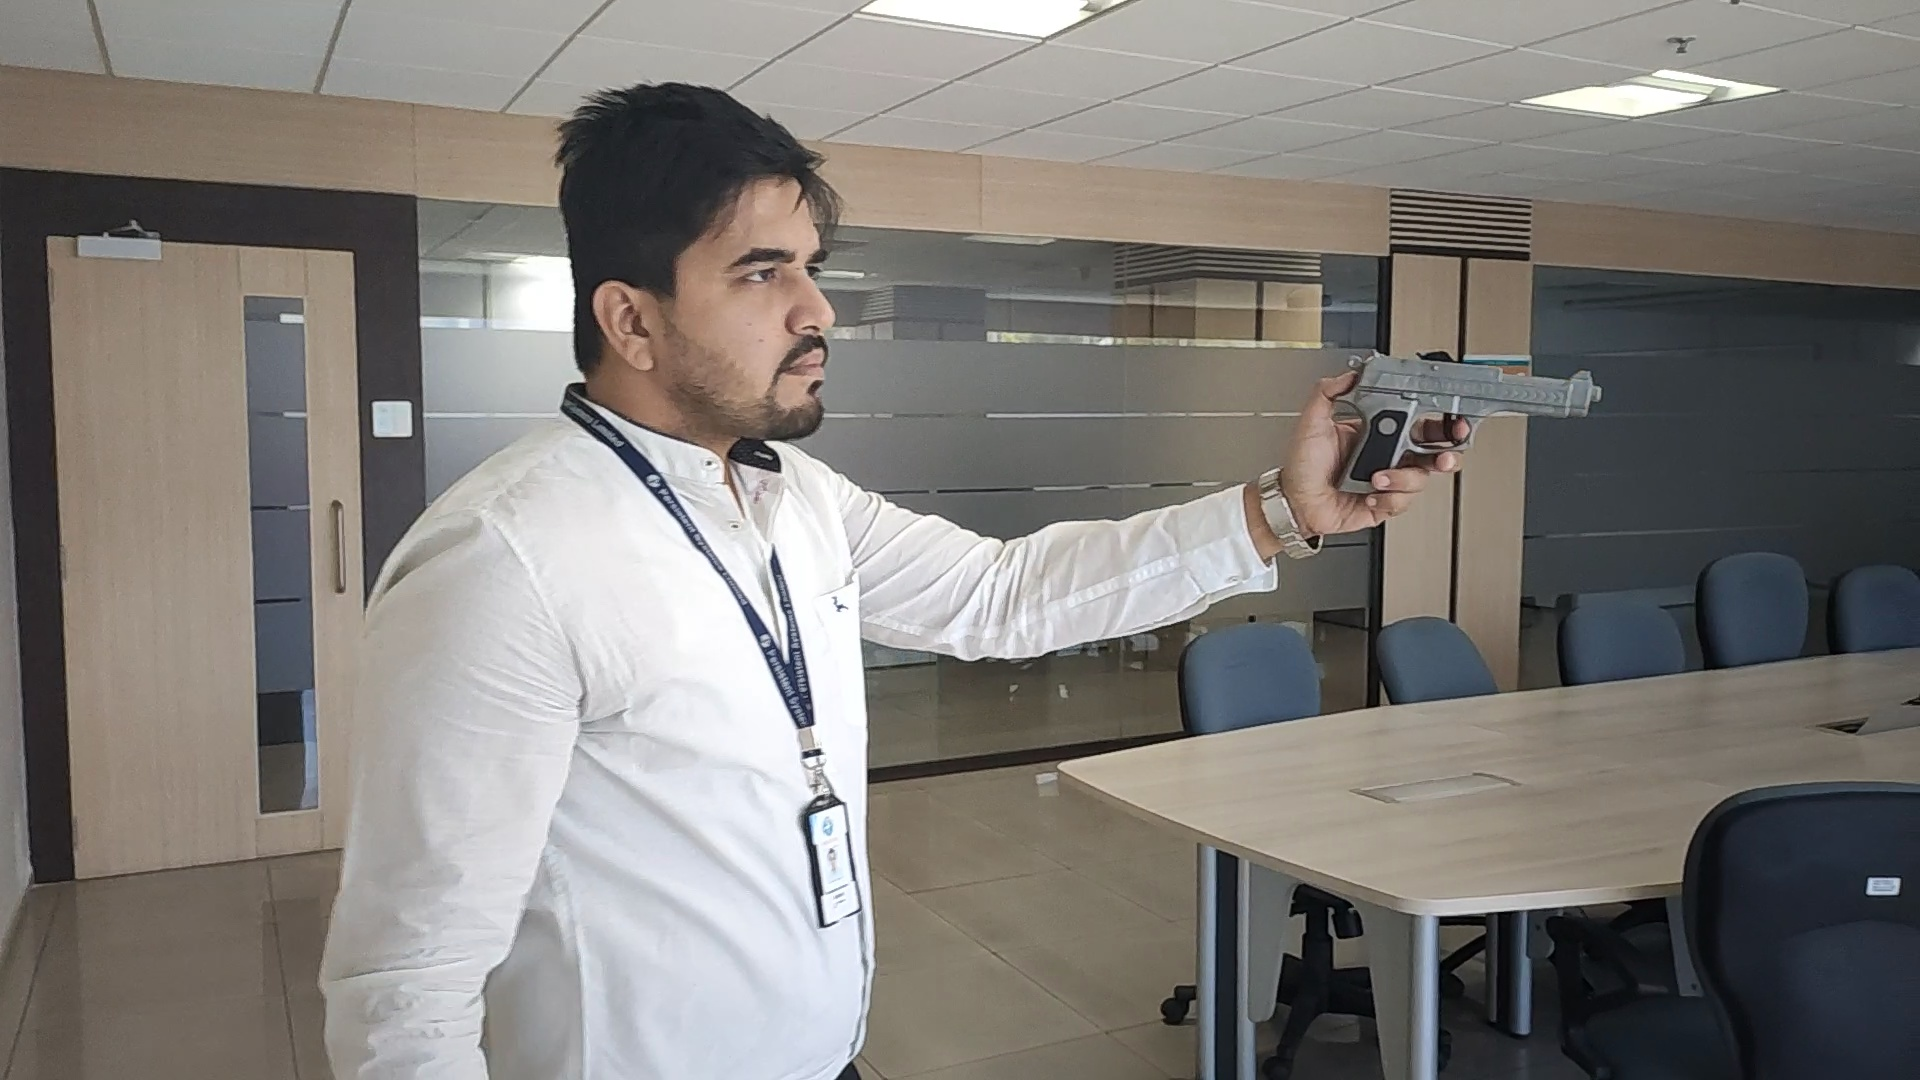gun: (1332, 353, 1600, 497)
